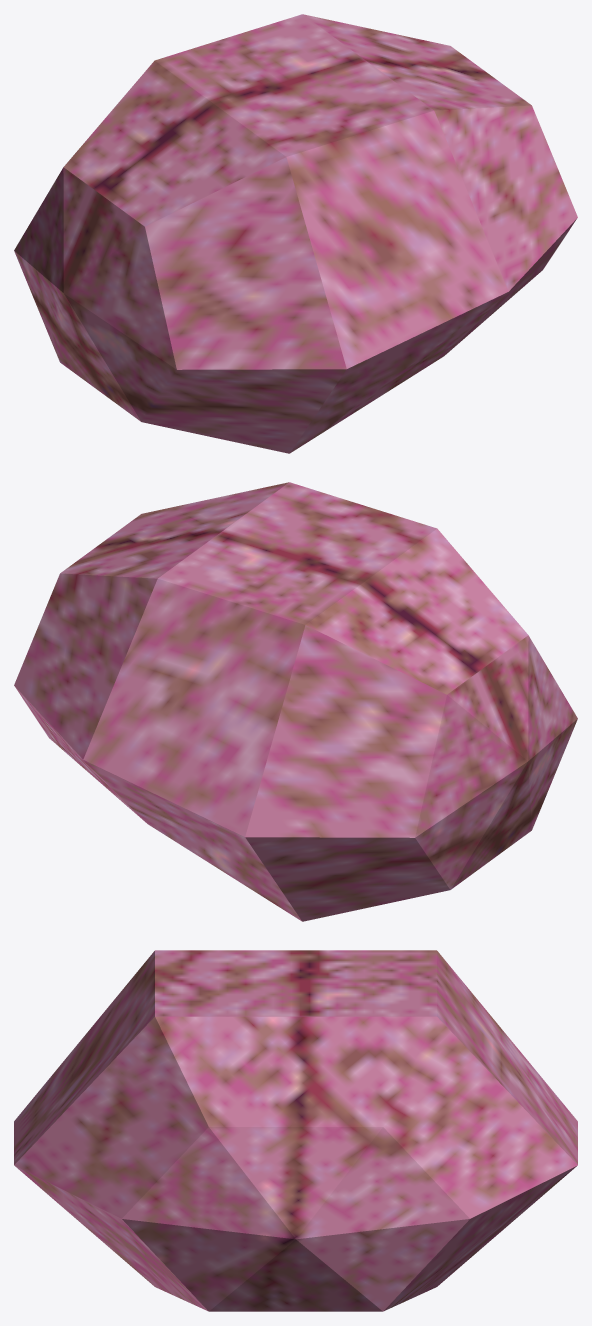
Rendered from brain.fbx.
3 renders of one model, top to bottom at view 1: azimuth 30°, elevation 25°; view 2: azimuth 150°, elevation 25°; view 3: azimuth 270°, elevation 25°, orthographic. The views are drawn at different scales.
Visible parts, largest first — view 1: brain; view 2: brain; view 3: brain.
Part boxes in pixels (left/top/right/bottom): brain: left=14, top=14, right=577, bottom=453; brain: left=14, top=482, right=577, bottom=921; brain: left=14, top=950, right=577, bottom=1311.
Size of the model in its own units: 199 by 123 by 190.
